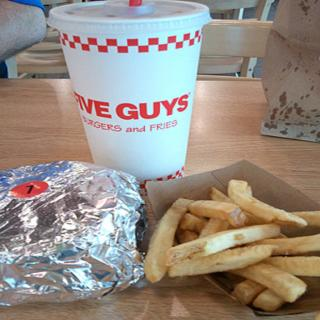French fries: (132, 174, 320, 290)
